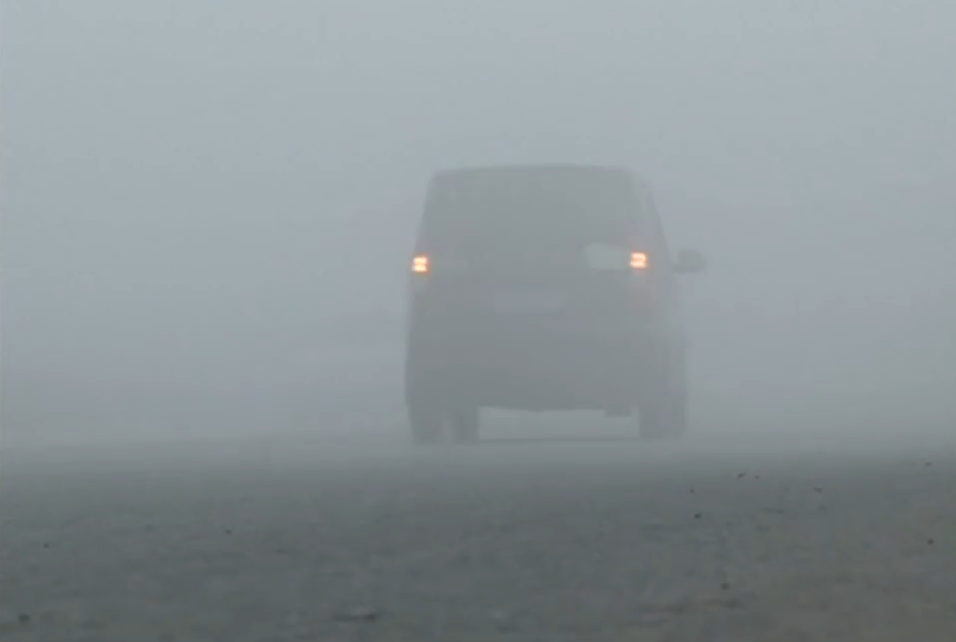car: (393, 166, 706, 454)
